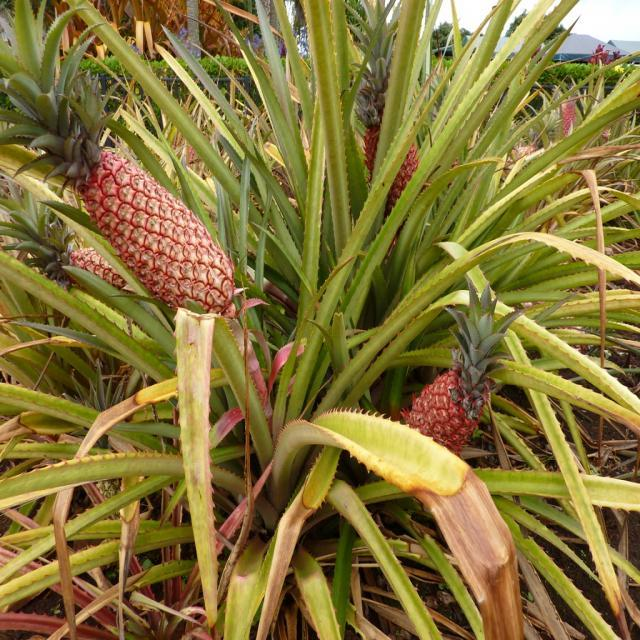Pineapple: (0, 0, 240, 322), (400, 278, 526, 456), (342, 0, 430, 236), (3, 172, 129, 302), (421, 65, 466, 185), (563, 82, 578, 137)
